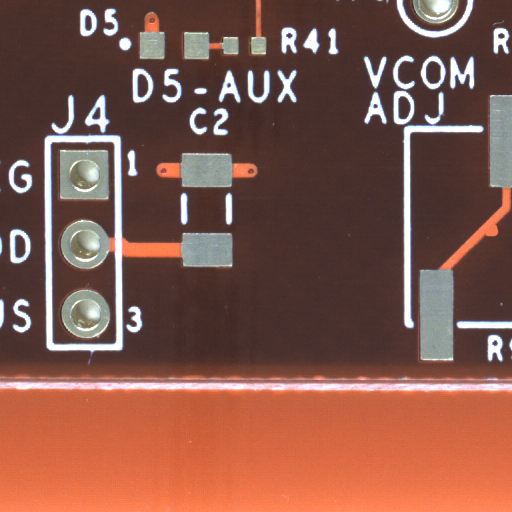Spur: (490, 231, 505, 242)
